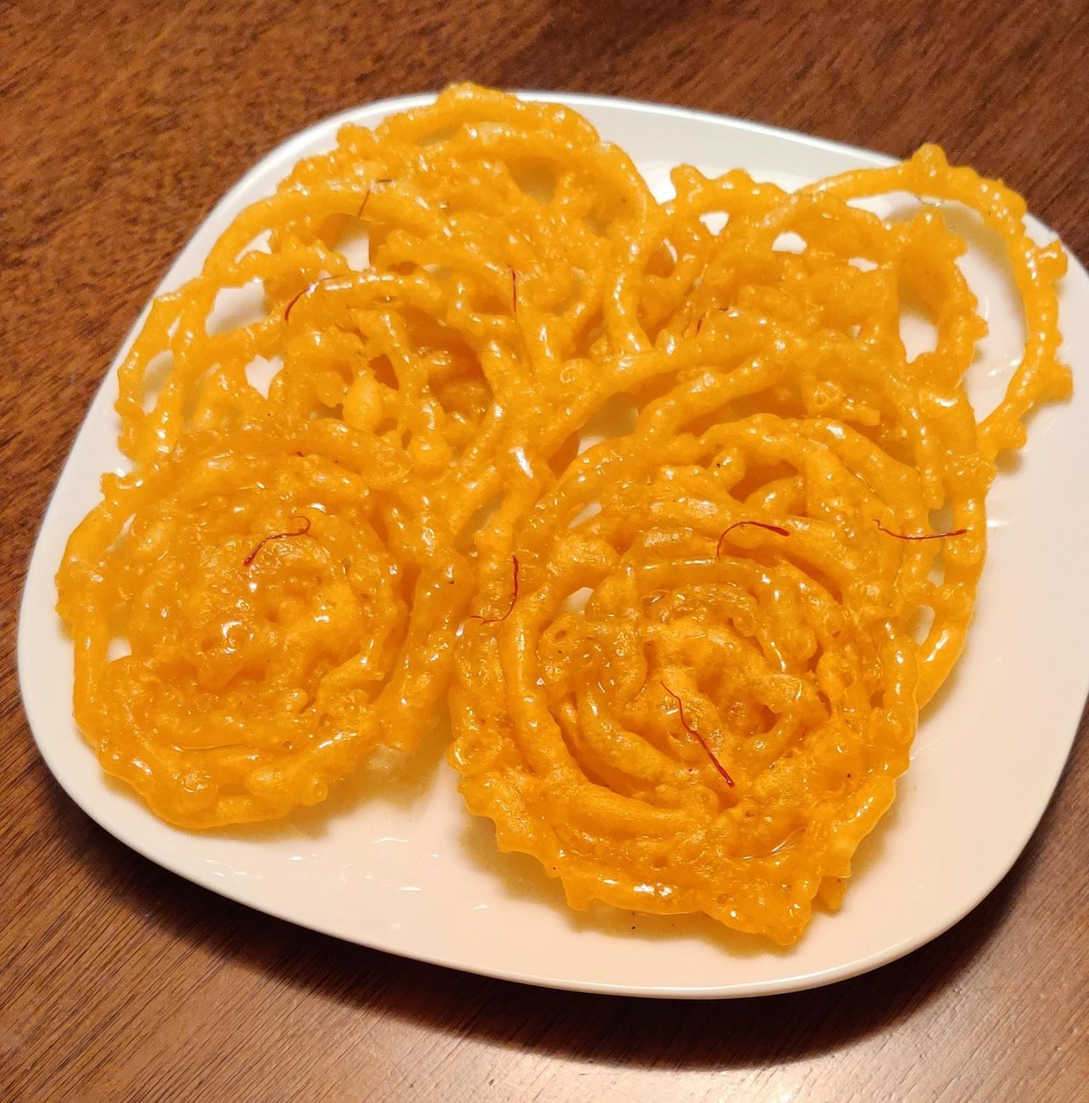Jalebi: (61, 74, 1063, 957)
